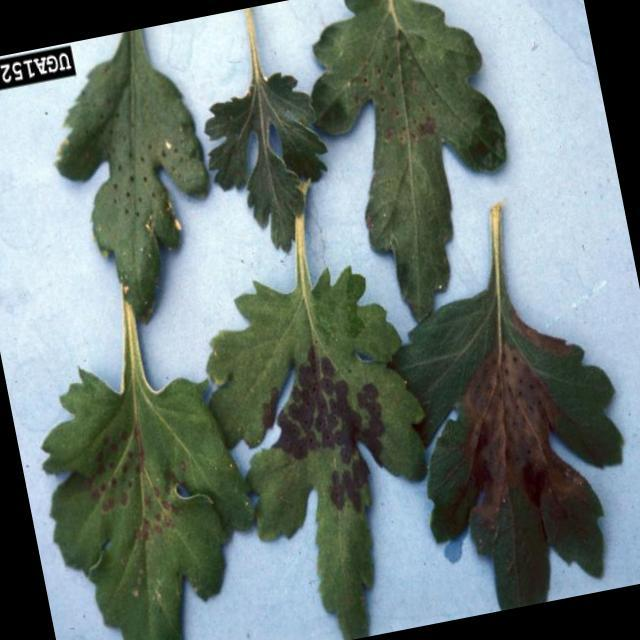Tomato leaf bacterial spot: (182, 248, 470, 639), (281, 0, 551, 358), (16, 292, 291, 639), (19, 38, 242, 366), (448, 330, 604, 564)
